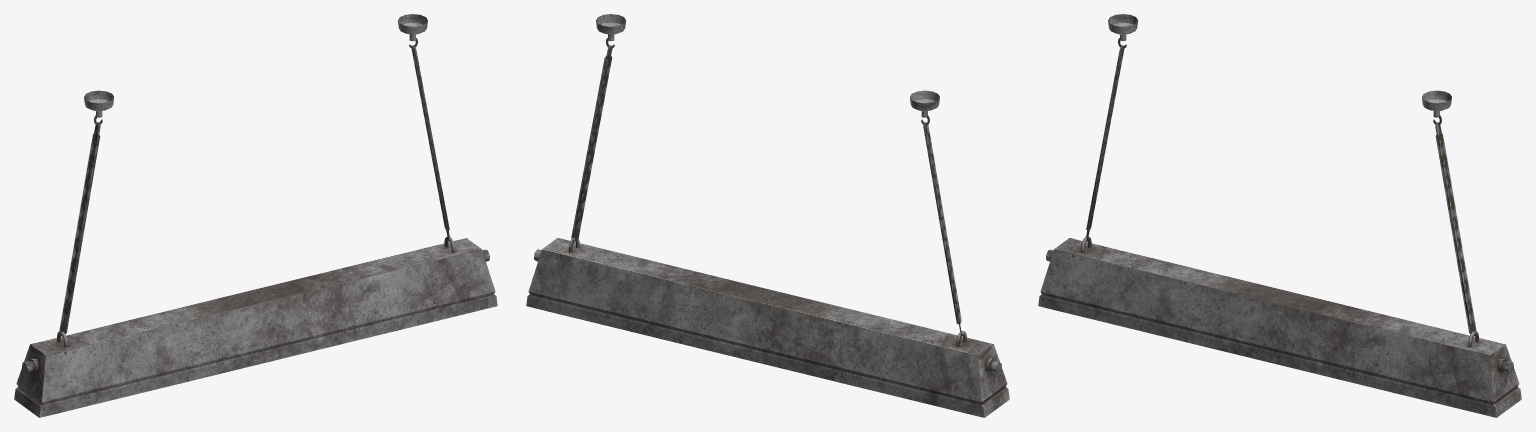
The model's file is ceiling_lamp.fbx.
3 views of the same model, side by side, from view 1: azimuth 30°, elevation 25°; view 2: azimuth 150°, elevation 25°; view 3: azimuth 330°, elevation 25° (orthographic).
Visible parts, largest first — view 1: ceiling_lamp; view 2: ceiling_lamp; view 3: ceiling_lamp.
Part boxes in pixels (box(x1,y1,x2,y2)): ceiling_lamp: box(14, 14, 497, 417); ceiling_lamp: box(526, 14, 1009, 417); ceiling_lamp: box(1038, 14, 1521, 417).
Size of the model in its own units: 1.8 by 1.09 by 0.1716.
1 material, 1 textured.
